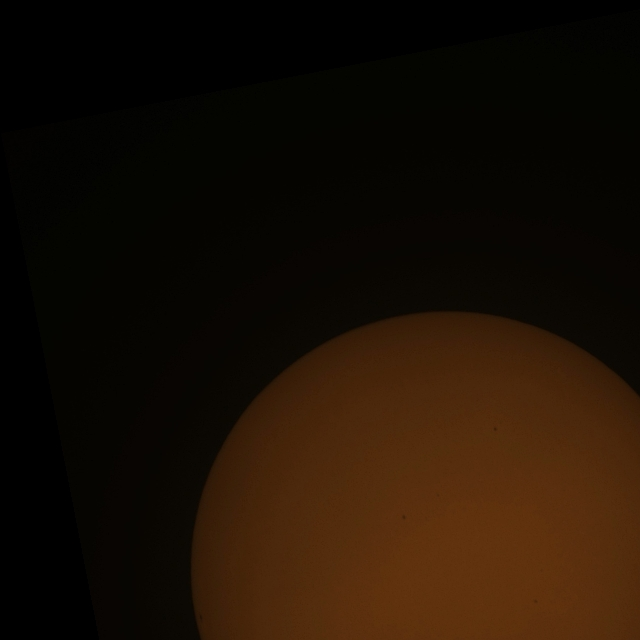sunspot: (401, 514, 407, 522), (532, 598, 538, 605), (492, 426, 498, 432)
